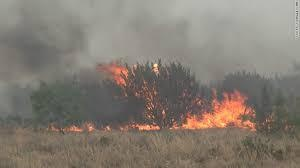fire: (174, 87, 258, 131)
